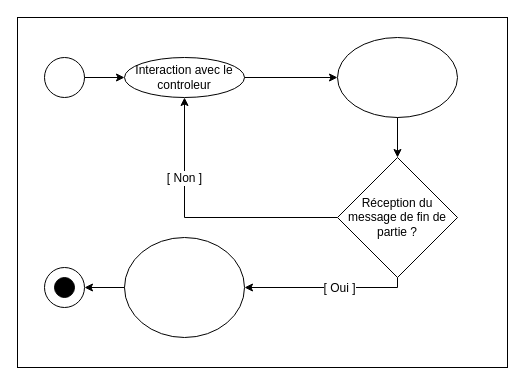
This 525x385 diagram has some shape labels left out. Here are the shapes that lost their labels. From the top down, the centre of each, then its label:
the point at 397,77: Envois d'une webSocket au serveur décrivant l'action
the point at 184,287: Reception du message de fin de partie + affichage du score
